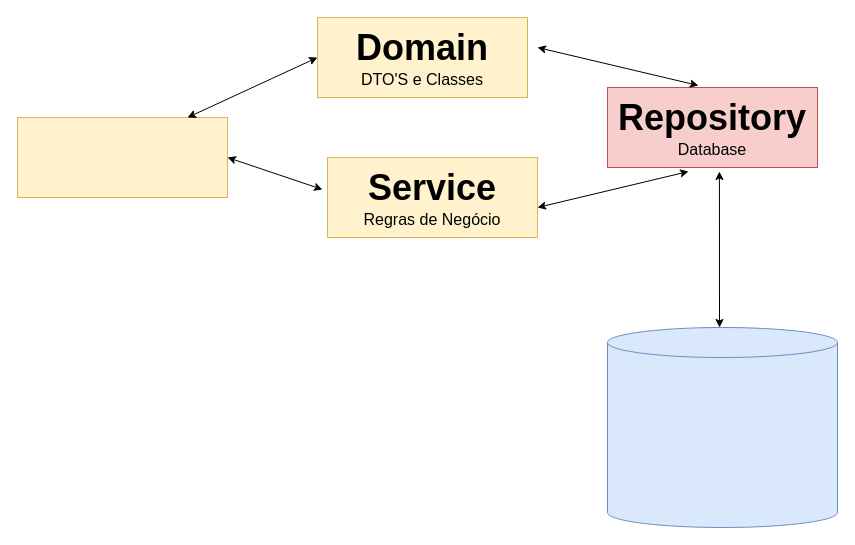
The diagram is 855 pixels wide and 545 high, and some of its shapes have lost their labels. The shapes that lost their labels are listed below. From the top down, each one's centre as x and y in pixels, then its label:
At point 122,157: "Application Console App, Web, REST API".
At point 722,427: "DataBase (SqlServer, MySql, PostgreSql".
